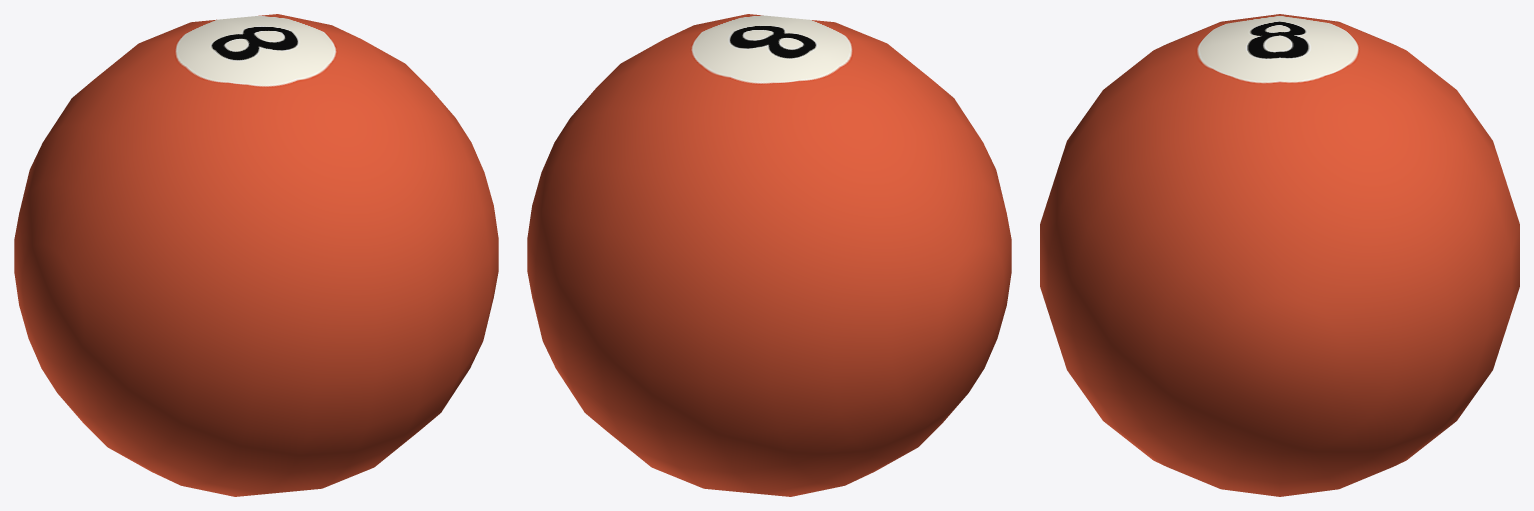
The model's file is Pool_Ball_08.fbx.
3 views of the same model, side by side, from view 1: azimuth 30°, elevation 25°; view 2: azimuth 150°, elevation 25°; view 3: azimuth 270°, elevation 25° (orthographic).
Visible parts, largest first — view 1: Pool_Ball_08; view 2: Pool_Ball_08; view 3: Pool_Ball_08.
Part boxes in pixels (<box>): Pool_Ball_08: <box>14,14,498,496</box>; Pool_Ball_08: <box>527,14,1011,496</box>; Pool_Ball_08: <box>1040,14,1519,496</box>.
Bounding box in the file's own units: 0.051 × 0.051 × 0.0505.
